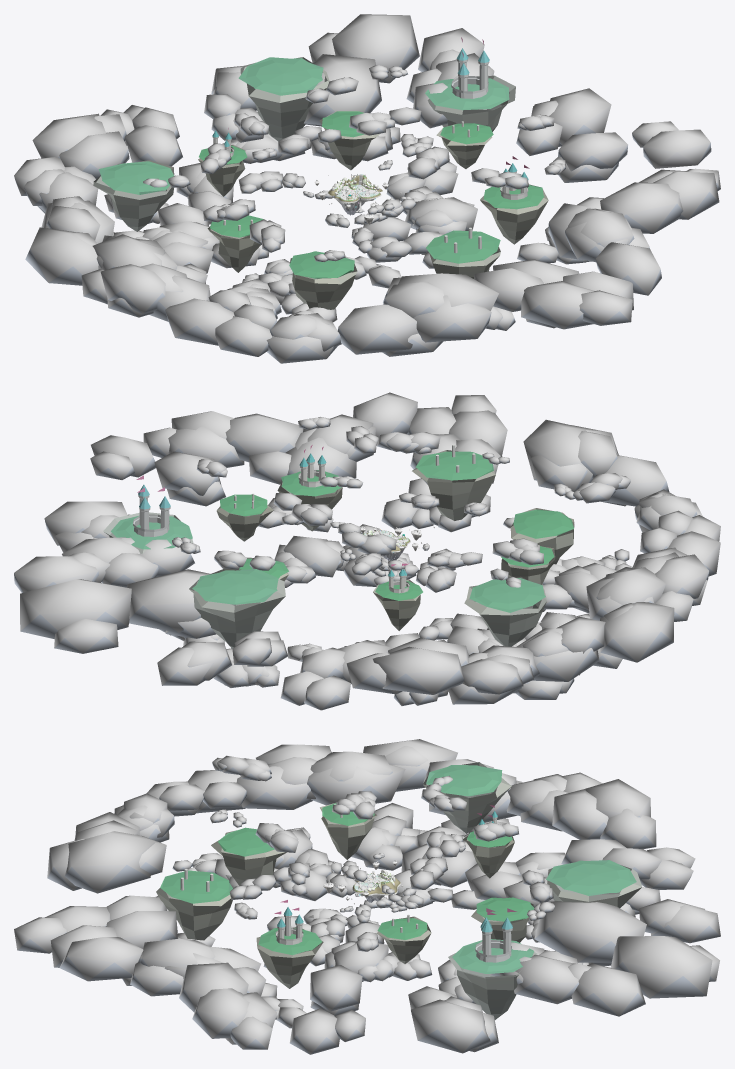
The model's file is world-v7.fbx.
3 views of the same model, one above another, from view 1: azimuth 30°, elevation 25°; view 2: azimuth 150°, elevation 25°; view 3: azimuth 270°, elevation 25° (orthographic).
Parts seen in each view (by area): view 1: W7_Backdrop__cloud_1, W7_Backdrop__cloud_2, W7_Backdrop__cloud_5, W7_Backdrop__cloud_4, W7_Backdrop__far_peak_1, W7_Backdrop__far_peak_2, W7_Backdrop__cloud_3, W7_Backdrop__far_peak_3; view 2: W7_Backdrop__cloud_4, W7_Backdrop__cloud_5, W7_Backdrop__cloud_1, W7_Backdrop__cloud_2, W7_Backdrop__far_peak_1, W7_Backdrop__far_peak_2, W7_Backdrop__cloud_3, W7_Backdrop__far_peak_3; view 3: W7_Backdrop__cloud_4, W7_Backdrop__cloud_1, W7_Backdrop__cloud_5, W7_Backdrop__cloud_2, W7_Backdrop__far_peak_1, W7_Backdrop__far_peak_2, W7_Backdrop__cloud_3, W7_Backdrop__far_peak_3.
Part boxes in pixels (left/top/right/bottom): W7_Backdrop__cloud_1: left=81, top=173, right=498, bottom=363; W7_Backdrop__cloud_2: left=354, top=142, right=720, bottom=330; W7_Backdrop__cloud_5: left=14, top=105, right=349, bottom=304; W7_Backdrop__cloud_4: left=204, top=14, right=611, bottom=238; W7_Backdrop__far_peak_1: left=207, top=121, right=548, bottom=309; W7_Backdrop__far_peak_2: left=198, top=37, right=515, bottom=196; W7_Backdrop__cloud_3: left=363, top=115, right=711, bottom=241; W7_Backdrop__far_peak_3: left=93, top=160, right=174, bottom=231; W7_Backdrop__cloud_4: left=14, top=463, right=388, bottom=687; W7_Backdrop__cloud_5: left=280, top=531, right=674, bottom=710; W7_Backdrop__cloud_1: left=390, top=419, right=720, bottom=621; W7_Backdrop__cloud_2: left=143, top=392, right=507, bottom=579; W7_Backdrop__far_peak_1: left=216, top=444, right=574, bottom=584; W7_Backdrop__far_peak_2: left=103, top=475, right=422, bottom=648; W7_Backdrop__cloud_3: left=90, top=435, right=378, bottom=586; W7_Backdrop__far_peak_3: left=464, top=576, right=546, bottom=646; W7_Backdrop__cloud_4: left=370, top=847, right=720, bottom=1053; W7_Backdrop__cloud_1: left=47, top=744, right=405, bottom=931; W7_Backdrop__cloud_5: left=351, top=739, right=695, bottom=924; W7_Backdrop__cloud_2: left=14, top=823, right=371, bottom=1049; W7_Backdrop__far_peak_1: left=156, top=803, right=431, bottom=988; W7_Backdrop__far_peak_2: left=448, top=805, right=642, bottom=1019; W7_Backdrop__cloud_3: left=289, top=869, right=388, bottom=1054; W7_Backdrop__far_peak_3: left=423, top=762, right=511, bottom=833.
Bounding box in the file's own units: 370340 × 74771 × 367281.
